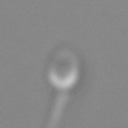normal: (35, 90, 75, 128)
